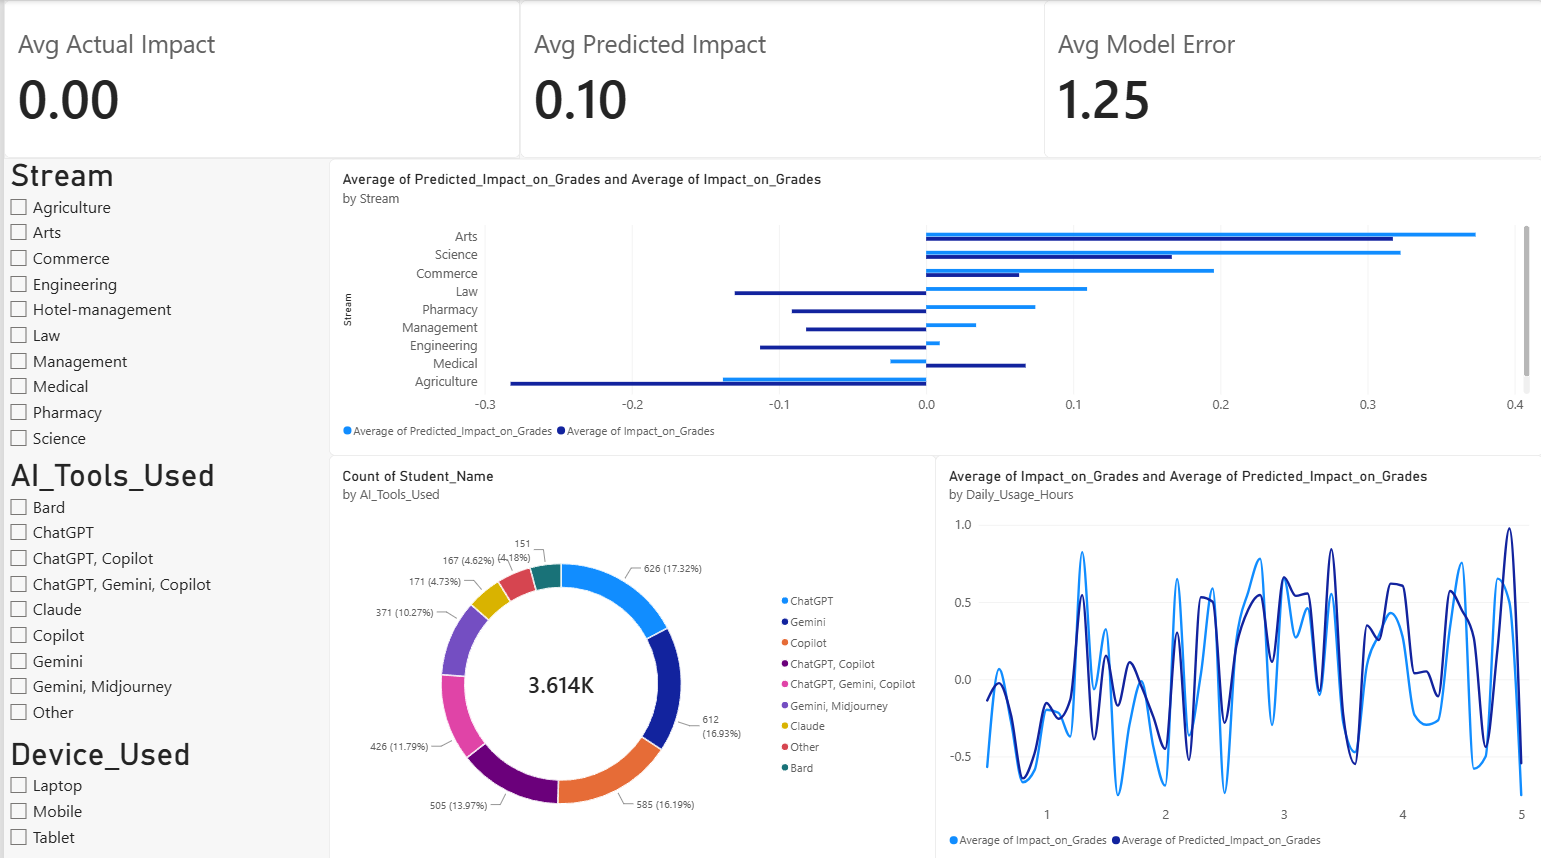

The page's visual inventory and layout, read from the dashboard file:
{"tool":"powerbi","page":{"name":"Page 1","canvas":[1920,1080],"ordinal":0},"visuals":[{"type":"slicer","fields":{"Values":["Student_AI_Impact_Predictions_PowerBI.Stream"]},"box":[0,195.3,404.7,373.3],"z":0},{"type":"cardVisual","fields":{"Data":["Avg(Student_AI_Impact_Predictions_PowerBI.Impact_on_Grades)"]},"box":[0,0,644.3,197.6],"z":1000},{"type":"cardVisual","fields":{"Data":["Avg(Student_AI_Impact_Predictions_PowerBI.Predicted_Impact_on_Grades)"]},"box":[644.3,0,669,197.6],"z":2000},{"type":"cardVisual","fields":{"Data":["Avg(Student_AI_Impact_Predictions_PowerBI.Absolute_Error)"]},"box":[1296.7,0,623.7,197.6],"z":3000},{"type":"clusteredBarChart","fields":{"Category":["Student_AI_Impact_Predictions_PowerBI.Stream"],"Y":["Avg(Student_AI_Impact_Predictions_PowerBI.Predicted_Impact_on_Grades)","Avg(Student_AI_Impact_Predictions_PowerBI.Impact_on_Grades)"]},"box":[405.5,197.6,1514.9,370.5],"z":4000},{"type":"donutChart","fields":{"Category":["Student_AI_Impact_Predictions_PowerBI.AI_Tools_Used"],"Y":["CountNonNull(Student_AI_Impact_Predictions_PowerBI.Student_Name)"]},"box":[405.5,568.1,757.5,512.5],"z":5000},{"type":"lineChart","fields":{"Category":["Student_AI_Impact_Predictions_PowerBI.Daily_Usage_Hours"],"Y":["Avg(Student_AI_Impact_Predictions_PowerBI.Impact_on_Grades)","Avg(Student_AI_Impact_Predictions_PowerBI.Predicted_Impact_on_Grades)"]},"box":[1162,568,758,512],"z":6000},{"type":"slicer","fields":{"Values":["Student_AI_Impact_Predictions_PowerBI.AI_Tools_Used"]},"box":[0,568.6,404.7,347.1],"z":6001},{"type":"slicer","fields":{"Values":["Student_AI_Impact_Predictions_PowerBI.Device_Used"]},"box":[0,916,405,164],"z":6002}]}

Visuals, with their boxes in screenshot pixels (x1, y1, x2, y2), scaled from the page's 1920x1080 canvas onto the 1541x858 screenshot:
slicer - Student_AI_Impact_Predictions_PowerBI.Stream: pyautogui.locateOnScreen(0, 155, 325, 452)
cardVisual - Avg(Student_AI_Impact_Predictions_PowerBI.Impact_on_Grades): pyautogui.locateOnScreen(0, 0, 517, 157)
cardVisual - Avg(Student_AI_Impact_Predictions_PowerBI.Predicted_Impact_on_Grades): pyautogui.locateOnScreen(517, 0, 1054, 157)
cardVisual - Avg(Student_AI_Impact_Predictions_PowerBI.Absolute_Error): pyautogui.locateOnScreen(1041, 0, 1540, 157)
clusteredBarChart - Student_AI_Impact_Predictions_PowerBI.Stream x Avg(Student_AI_Impact_Predictions_PowerBI.Predicted_Impact_on_Grades): pyautogui.locateOnScreen(325, 157, 1540, 451)
donutChart - Student_AI_Impact_Predictions_PowerBI.AI_Tools_Used x CountNonNull(Student_AI_Impact_Predictions_PowerBI.Student_Name): pyautogui.locateOnScreen(325, 451, 933, 857)
lineChart - Student_AI_Impact_Predictions_PowerBI.Daily_Usage_Hours x Avg(Student_AI_Impact_Predictions_PowerBI.Impact_on_Grades): pyautogui.locateOnScreen(933, 451, 1540, 857)
slicer - Student_AI_Impact_Predictions_PowerBI.AI_Tools_Used: pyautogui.locateOnScreen(0, 452, 325, 727)
slicer - Student_AI_Impact_Predictions_PowerBI.Device_Used: pyautogui.locateOnScreen(0, 728, 325, 857)
